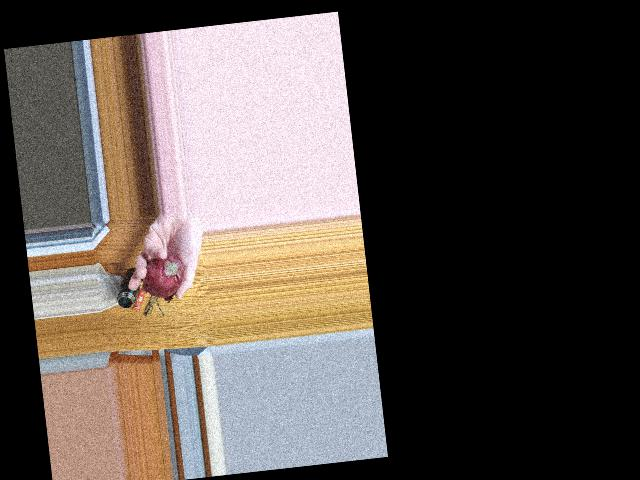onion: (143, 253, 186, 294)
